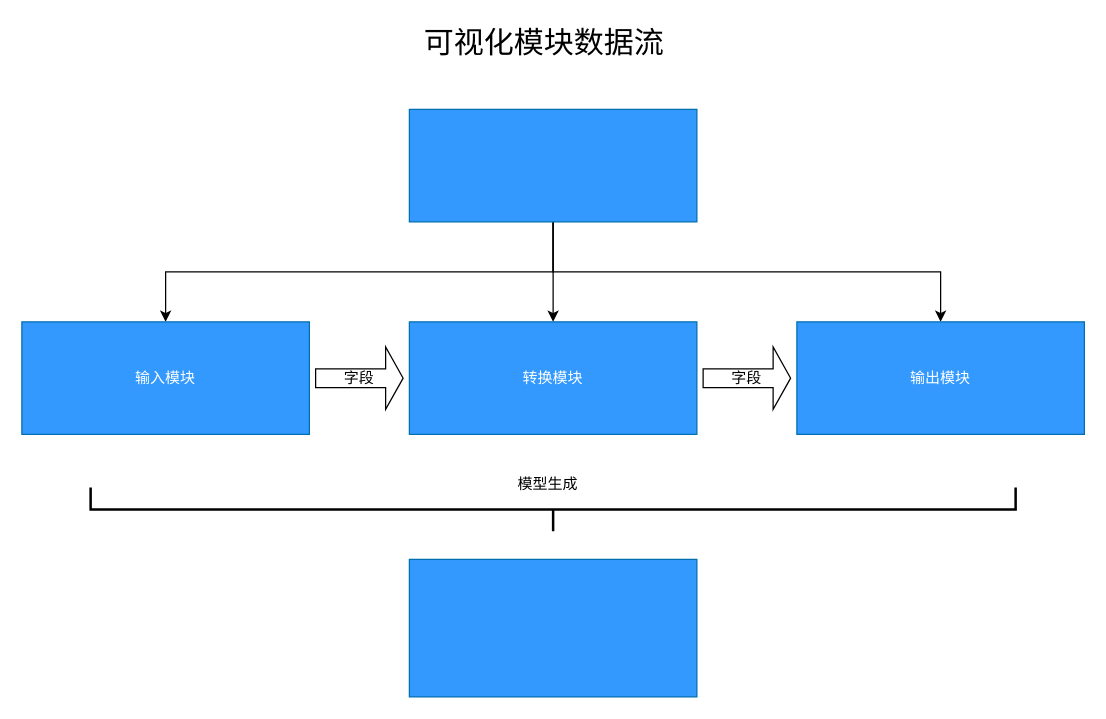
Some shapes in this 1106 by 719 pixel diagram are drawn without their labels. The centre of each missing label's shape, as x and y in pixels:
创建ETL模型: the point at 552,165
指定Agent启动 / 停止ETL模型任务: the point at 552,627
